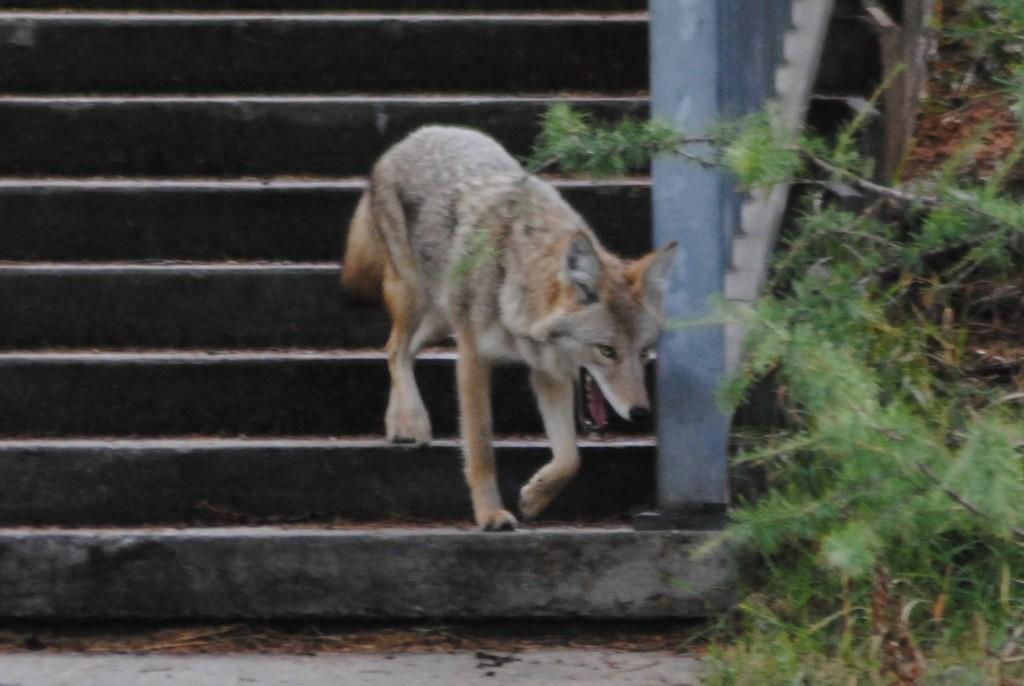Coyote: (337, 116, 684, 531)
